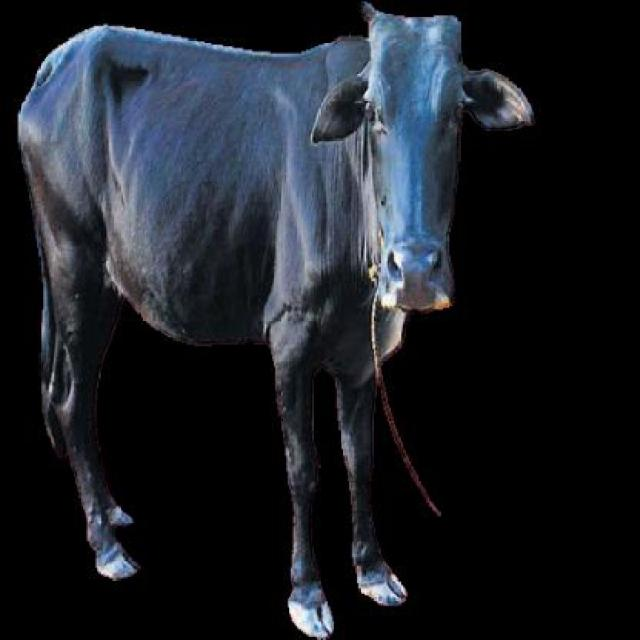Cow: (17, 0, 531, 638)
